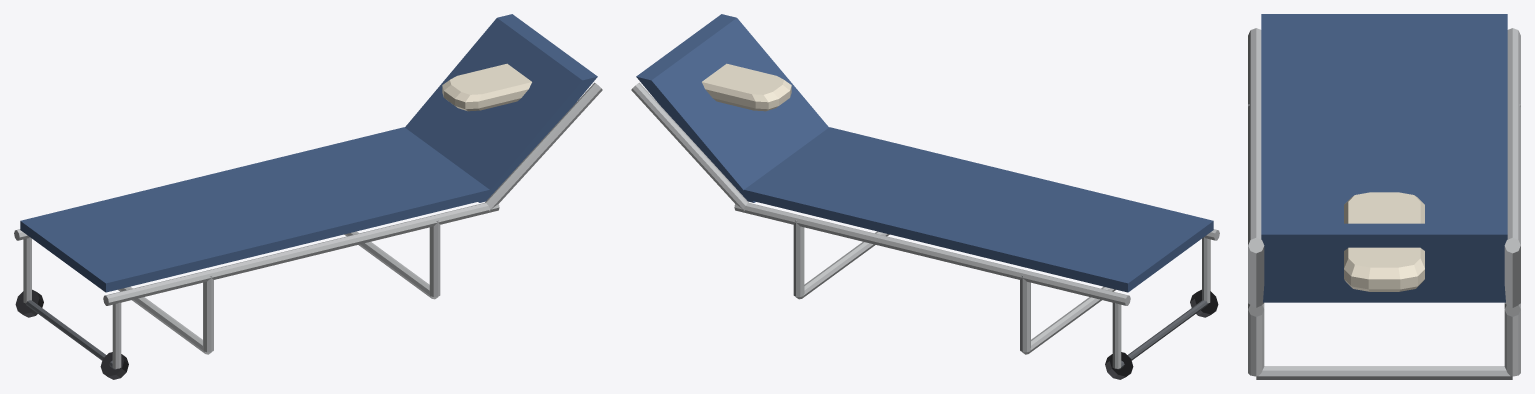
Rendered from FN_Lounger_Sun.obj.
3 renders of one model, left to right at view 1: azimuth 30°, elevation 25°; view 2: azimuth 150°, elevation 25°; view 3: azimuth 270°, elevation 25°, orthographic. The views are drawn at different scales.
Visible parts, largest first — view 1: FN_Lounger_Sun; view 2: FN_Lounger_Sun; view 3: FN_Lounger_Sun.
Part boxes in pixels (box(x1,y1,x2,y2)): FN_Lounger_Sun: box(14, 14, 602, 379); FN_Lounger_Sun: box(631, 14, 1219, 379); FN_Lounger_Sun: box(1248, 14, 1520, 379).
Size of the model in its own units: 1.98 by 0.6797 by 0.638.
Materials: 1 (1 with a texture image).
